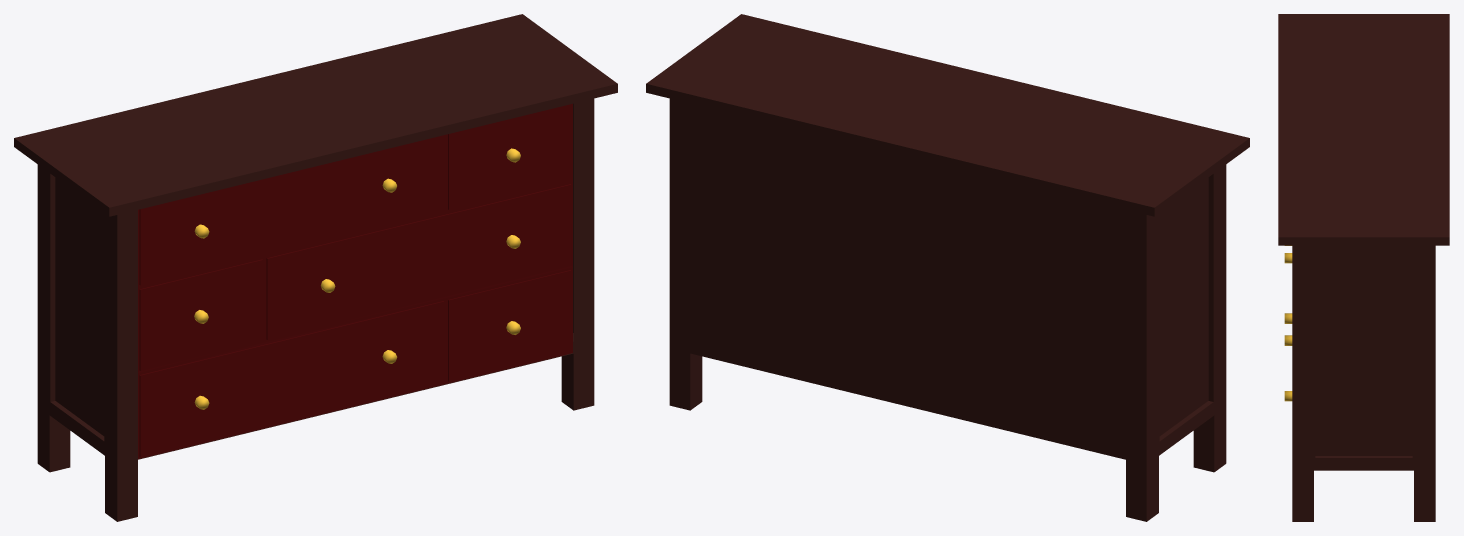
Rendered from Dresser.fbx.
3 views of the same model, side by side, from view 1: azimuth 30°, elevation 25°; view 2: azimuth 150°, elevation 25°; view 3: azimuth 270°, elevation 25° (orthographic). The views are drawn at different scales.
Parts seen in each view (by area): view 1: Dresser Drawers, Dresser, Dresser Handles; view 2: Dresser; view 3: Dresser, Dresser Handles.
Part boxes in pixels (<box>): Dresser Drawers: <box>138,103,572,458</box>; Dresser: <box>14,14,617,521</box>; Dresser Handles: <box>194,148,520,409</box>; Dresser: <box>646,14,1249,521</box>; Dresser: <box>1278,14,1449,521</box>; Dresser Handles: <box>1284,245,1292,401</box>.
Bounding box in the file's own units: 103 × 62.56 × 33.38.
